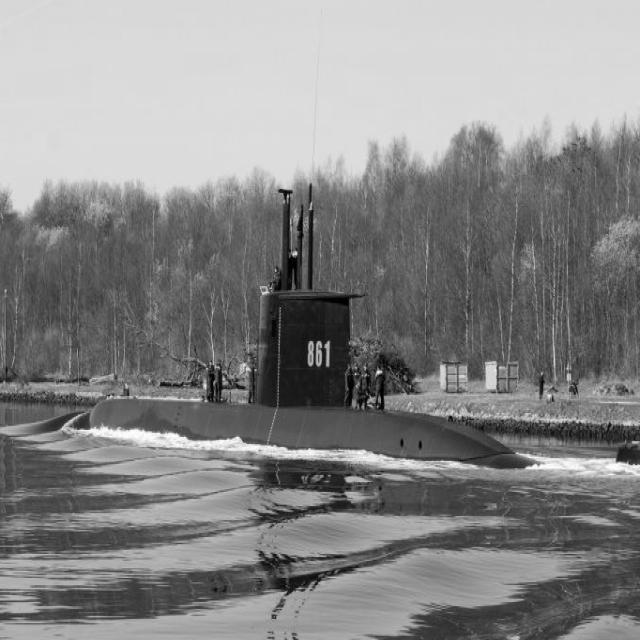submarine: (90, 180, 540, 468)
